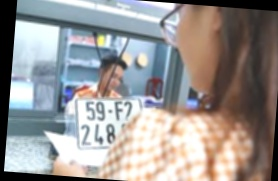Bien-so: (74, 101, 142, 159)
